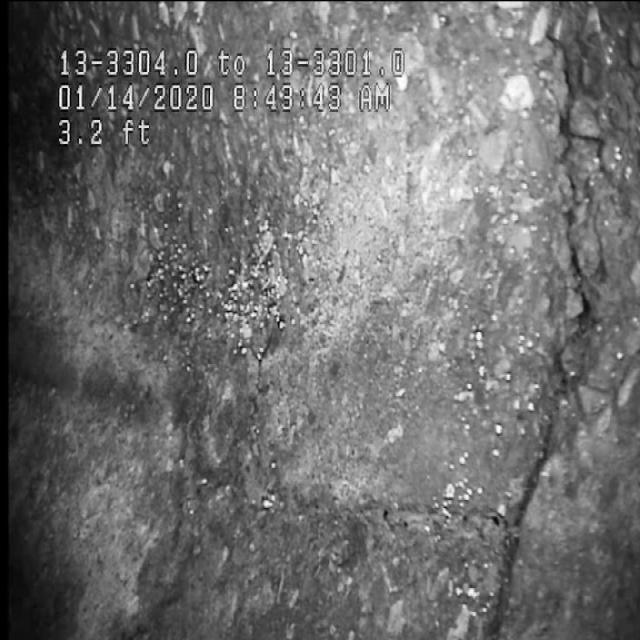Fracture: (455, 34, 621, 568)
